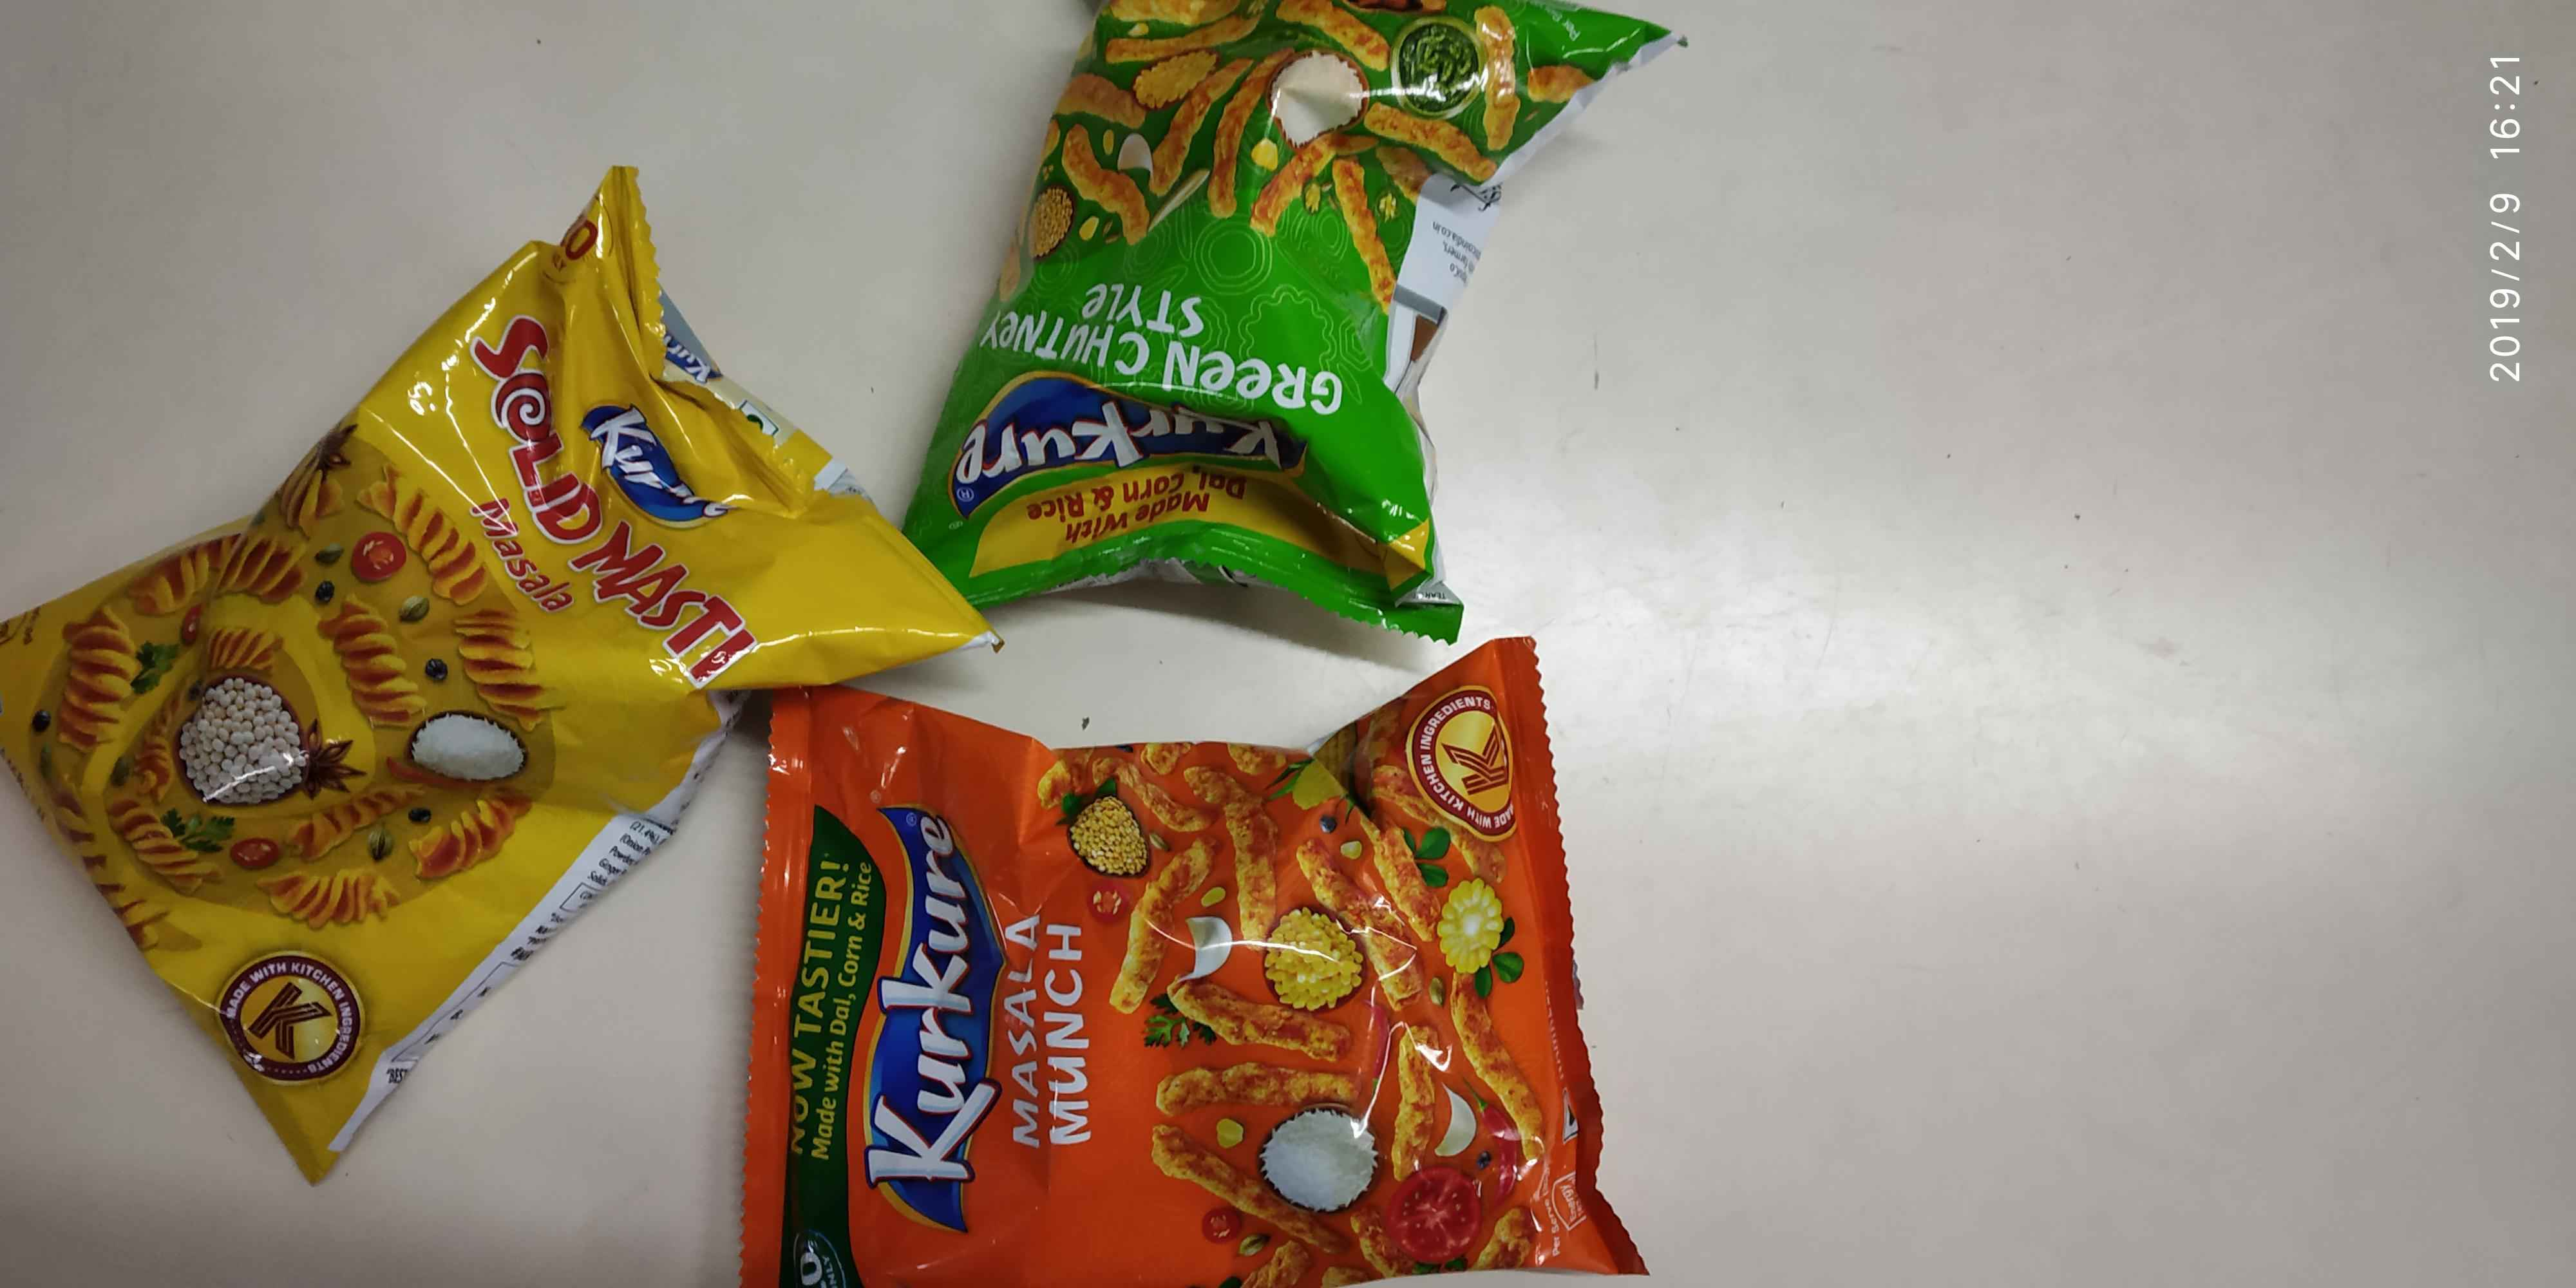kurkure: (940, 376, 1334, 498), (884, 797, 986, 1227), (577, 394, 746, 549)
